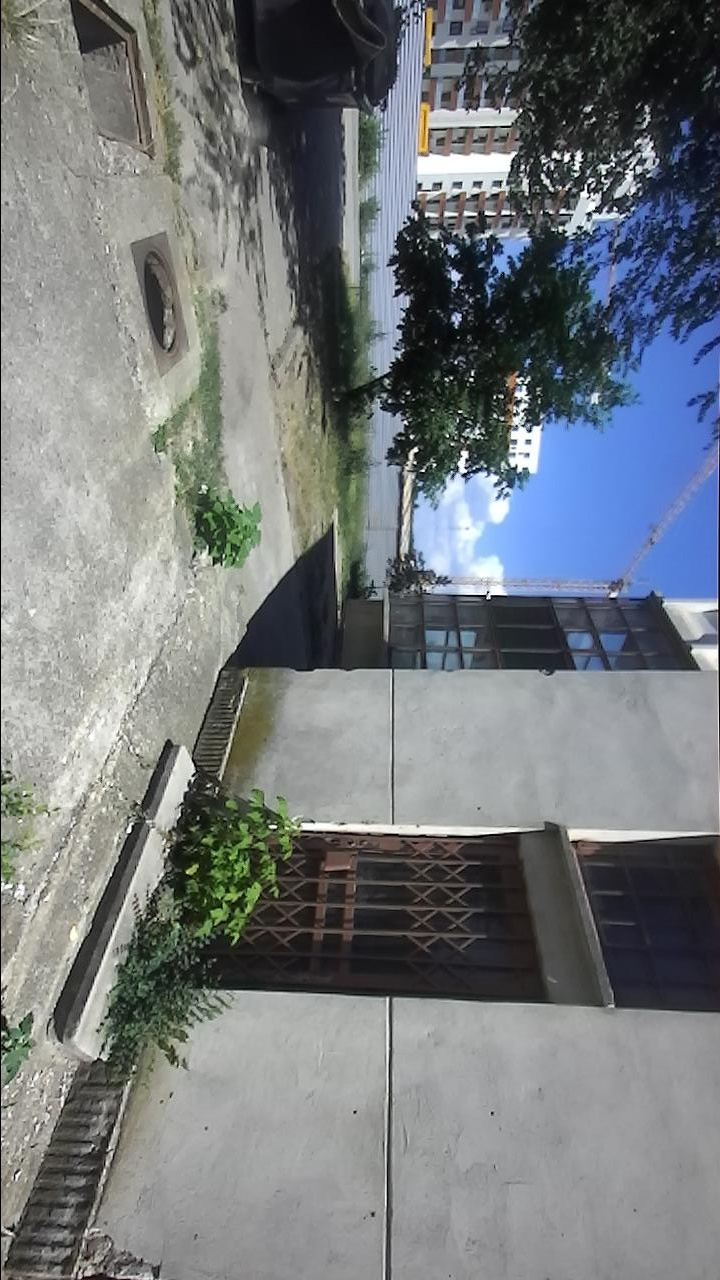drain: (66, 0, 160, 162), (140, 248, 186, 363)
